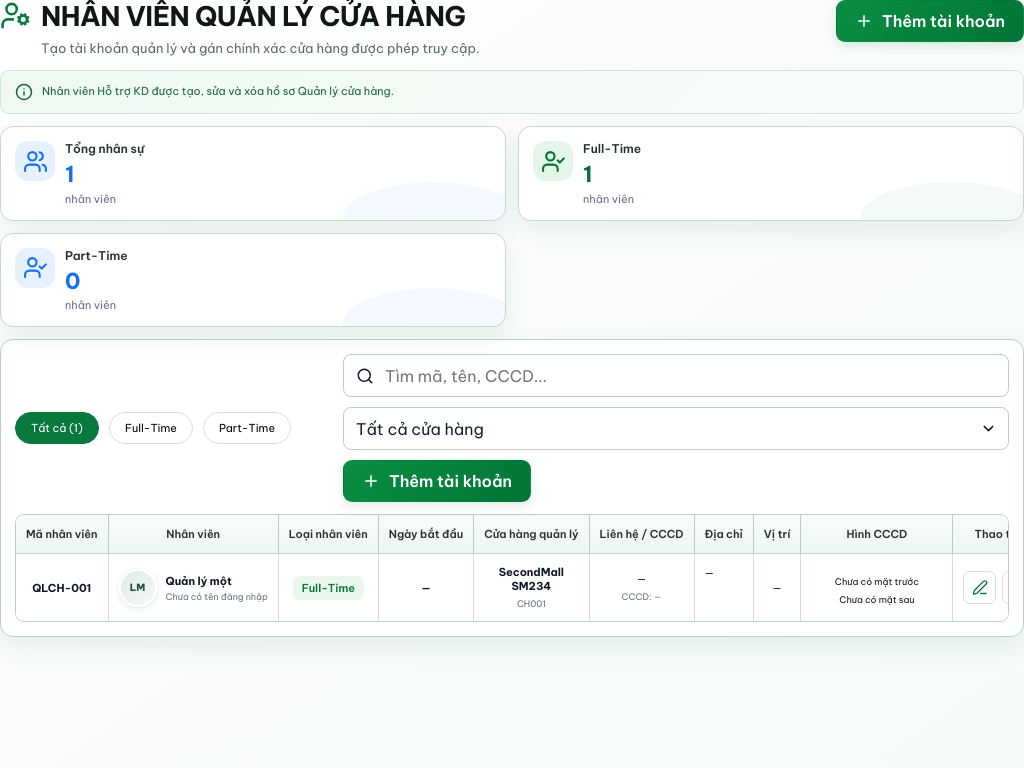
Test case: role management permissions and form › lets Business Support create, edit and delete a store manager
expect the text "Hỗ trợ KD được tạo, sửa và xóa hồ sơ Quản lý cửa hàng" is shown: met, box [42,84,394,98]
expect the button named "Sửa Quản lý một" is shown: met, box [963,571,996,604]
Step 1. Click the button "Thêm tài khoản" in the row of "NHÂN VIÊN QUẢN LÝ CỬA HÀNG" → (930, 21), box [836,0,1023,42]
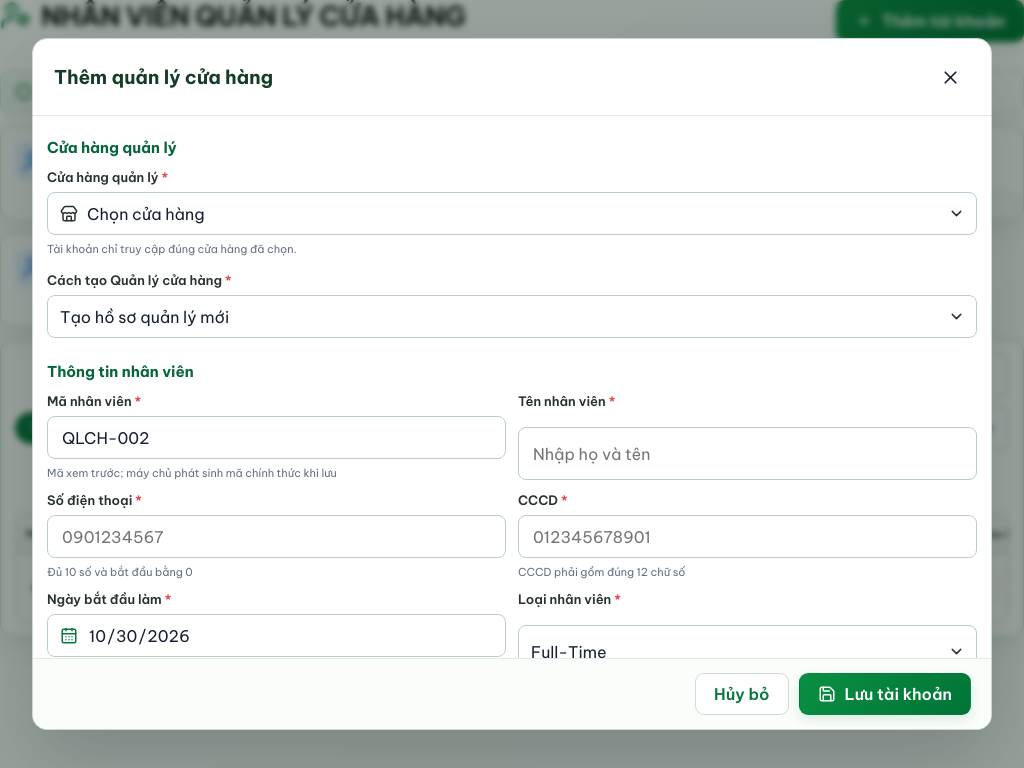
expect the dialog is shown: met
